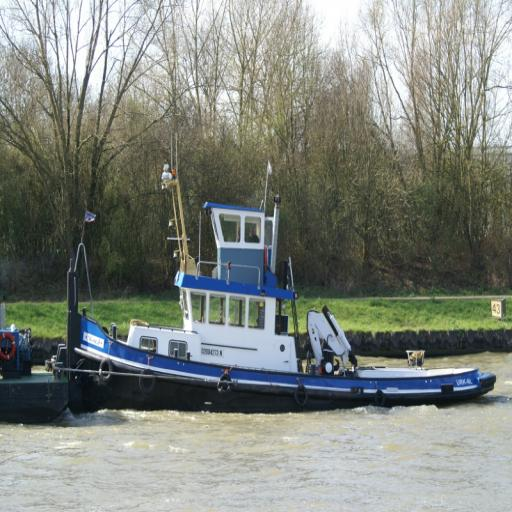tugboat: (53, 176, 499, 423)
